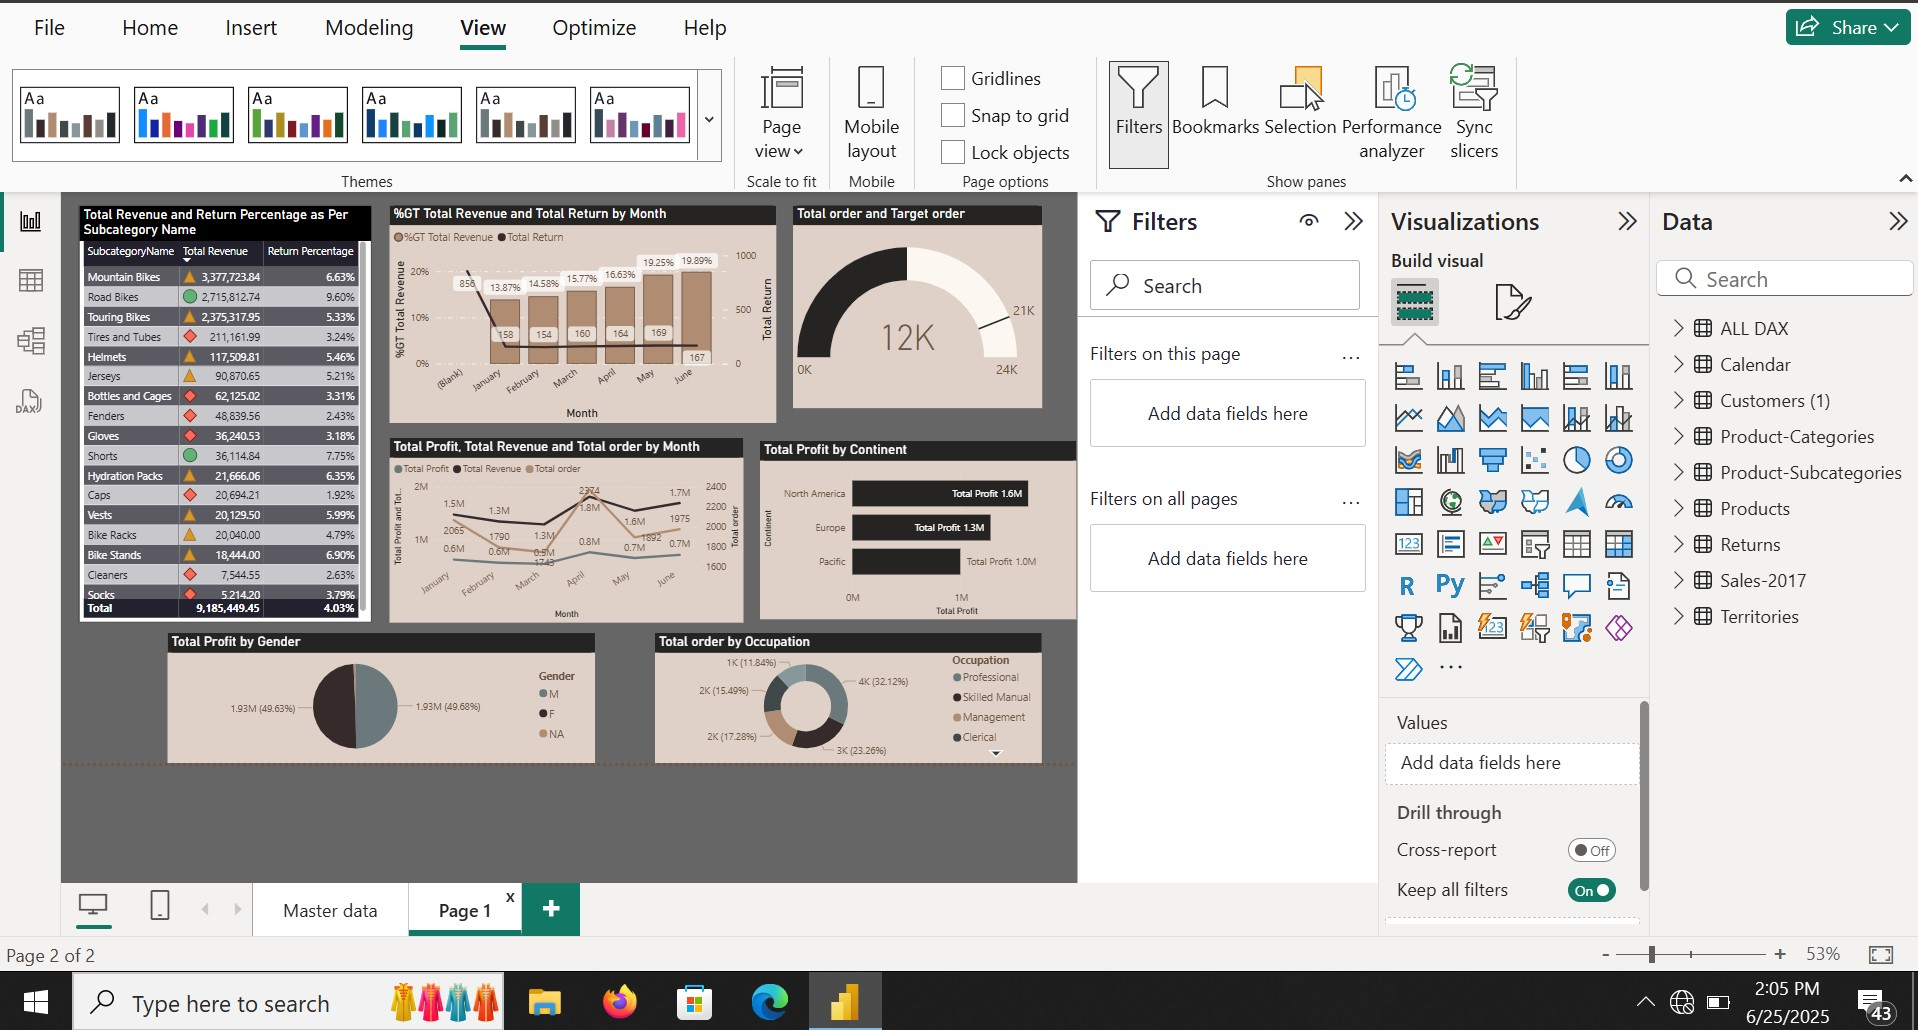

What the dashboard file says about the page in this screenshot:
{"tool":"powerbi","page":{"name":"Page 1","canvas":[1280,720],"ordinal":1},"visuals":[{"type":"pivotTable","title":"Total Revenue and Return Percentage  as Per Subcategory Name","fields":{"Rows":["Product-Subcategories.SubcategoryName"],"Values":["ALL DAX.Total Revenue","ALL DAX.Return Percentage"]},"box":[22.7,17,368.5,525.4],"z":0},{"type":"lineClusteredColumnComboChart","fields":{"Category":["Calendar.Calendar.Variation.Date Hierarchy.Month"],"Y":["ALL DAX.Total Revenue"],"Y2":["ALL DAX.Total Return"]},"box":[413.9,17,487.6,274],"z":1},{"type":"lineChart","fields":{"Y":["ALL DAX.Total Profit","ALL DAX.Total Revenue"],"Category":["Calendar.Start of Week.Variation.Date Hierarchy.Month"],"Y2":["ALL DAX.Total order"]},"box":[413.9,309.9,446,232.4],"z":2},{"type":"gauge","fields":{"Y":["ALL DAX.Total order"],"TargetValue":["ALL DAX.Target order"]},"box":[922.2,17,313.7,255.1],"z":3},{"type":"barChart","fields":{"Category":["Territories.Continent","Territories.Country","Territories.Region"],"Y":["ALL DAX.Total Profit"]},"box":[880.6,313.7,398.7,224.9],"z":4},{"type":"pieChart","fields":{"Category":["Customers (1).Gender"],"Y":["ALL DAX.Total Profit"]},"box":[134.2,555.6,538.6,164.4],"z":5},{"type":"donutChart","fields":{"Category":["Customers (1).Occupation"],"Y":["ALL DAX.Total order"]},"box":[748.4,555.6,487.6,164.4],"z":6}]}

Visuals, with their boxes on the page's 1280x720 design canvas (x1, y1, x2, y2). These are canvas units, not pixel positions in the 1918x1030 screenshot, which may show the page scaled, cropped or inside an application window:
"Total Revenue and Return Percentage  as Per Subcategory Name" pivotTable: 23 17 391 542
lineClusteredColumnComboChart - Calendar.Calendar.Variation.Date Hierarchy.Month x ALL DAX.Total Revenue: 414 17 902 291
lineChart - ALL DAX.Total Profit x ALL DAX.Total Revenue: 414 310 860 542
gauge - ALL DAX.Total order x ALL DAX.Target order: 922 17 1236 272
barChart - Territories.Continent x Territories.Country: 881 314 1279 539
pieChart - Customers (1).Gender x ALL DAX.Total Profit: 134 556 673 720
donutChart - Customers (1).Occupation x ALL DAX.Total order: 748 556 1236 720
